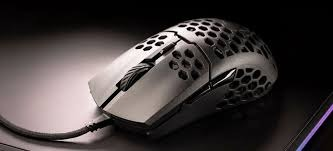mouse: (88, 17, 281, 135)
